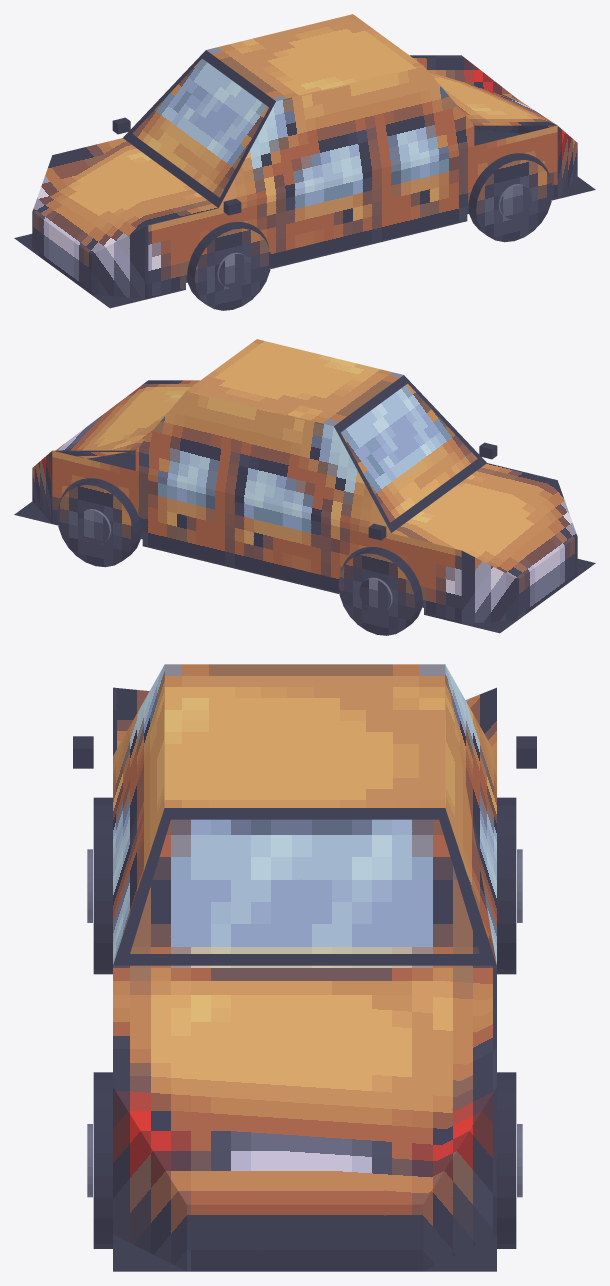
Rendered from unindexed-sedan-orange-v1.glb.
3 views of the same model, one above another, from view 1: azimuth 30°, elevation 25°; view 2: azimuth 150°, elevation 25°; view 3: azimuth 270°, elevation 25° (orthographic). The views are drawn at different scales.
Parts seen in each view (by area): view 1: Passenger-body-east, Cabin-windows-east, Hood, Roof, Windshield-glass, Tire_FL, Tire_RL, Trunk, Front-corner--1, Windshield-frame, Front-fascia, Underfloor (+5 smaller); view 2: Passenger-body-west, Cabin-windows-west, Hood, Roof, Windshield-glass, Trunk, Tire_FR, Tire_RR, Front-corner-1, Windshield-frame, Front-fascia, Underfloor (+5 smaller); view 3: Trunk, Rear-window-glass, Roof, Rear-fascia, Rear-window-frame, Cabin-windows-east, Cabin-windows-west, Rear-corner-1, Rear-corner--1, Tire_FL, Tire_FR, Tire_RL (+3 smaller).
Boxes of the visible parts, <box> form: Passenger-body-east: <box>148,125,557,298</box>; Cabin-windows-east: <box>219,65,474,207</box>; Hood: <box>32,138,218,254</box>; Roof: <box>206,14,422,101</box>; Windshield-glass: <box>132,58,268,197</box>; Tire_FL: <box>187,222,271,310</box>; Tire_RL: <box>468,154,552,242</box>; Trunk: <box>410,55,557,125</box>; Front-corner--1: <box>91,226,148,298</box>; Windshield-frame: <box>123,50,275,207</box>; Front-fascia: <box>32,211,91,294</box>; Underfloor: <box>14,130,595,308</box>; Passenger-body-west: <box>52,450,461,623</box>; Cabin-windows-west: <box>135,390,390,532</box>; Hood: <box>391,463,577,579</box>; Roof: <box>187,339,403,426</box>; Windshield-glass: <box>341,383,477,522</box>; Trunk: <box>53,380,199,458</box>; Tire_FR: <box>338,547,422,635</box>; Tire_RR: <box>57,479,141,567</box>; Front-corner-1: <box>461,551,518,623</box>; Windshield-frame: <box>334,375,486,532</box>; Front-fascia: <box>518,536,577,619</box>; Underfloor: <box>14,455,595,633</box>; Trunk: <box>113,965,496,1204</box>; Rear-window-glass: <box>130,819,479,953</box>; Roof: <box>164,664,445,807</box>; Rear-fascia: <box>187,1204,422,1271</box>; Rear-window-frame: <box>113,808,496,965</box>; Cabin-windows-east: <box>113,665,164,964</box>; Cabin-windows-west: <box>445,665,496,964</box>; Rear-corner-1: <box>423,1087,496,1271</box>; Rear-corner--1: <box>113,1087,186,1271</box>; Tire_FL: <box>93,797,112,974</box>; Tire_FR: <box>497,797,516,974</box>; Tire_RL: <box>93,1072,112,1248</box>.
Size of the model in its own units: 76 by 27 by 31.4.
Materials: 1 (1 with a texture image).
